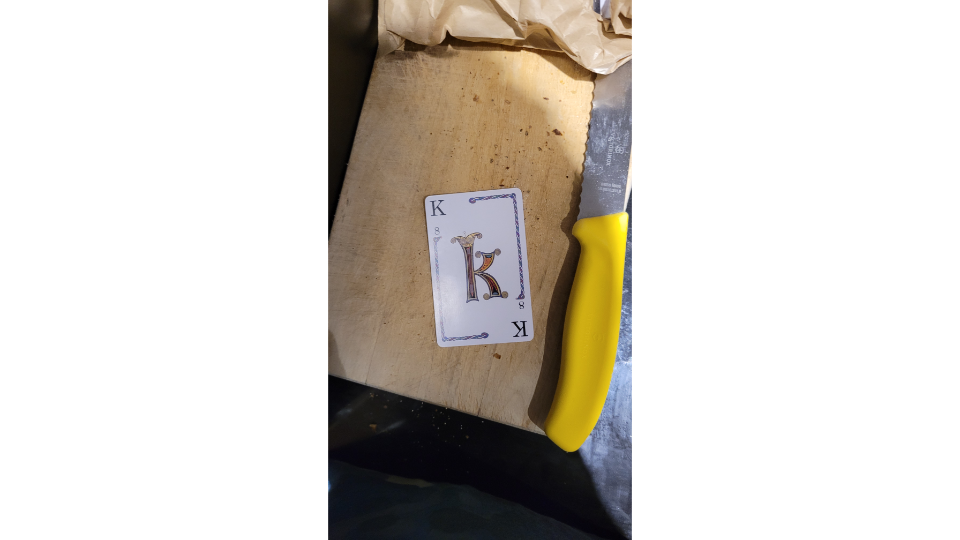K: (421, 184, 544, 349)
